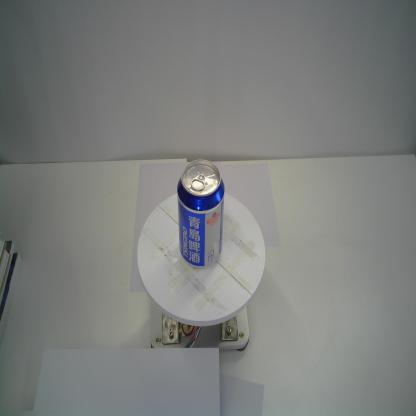Alcohol: (176, 159, 225, 269)
